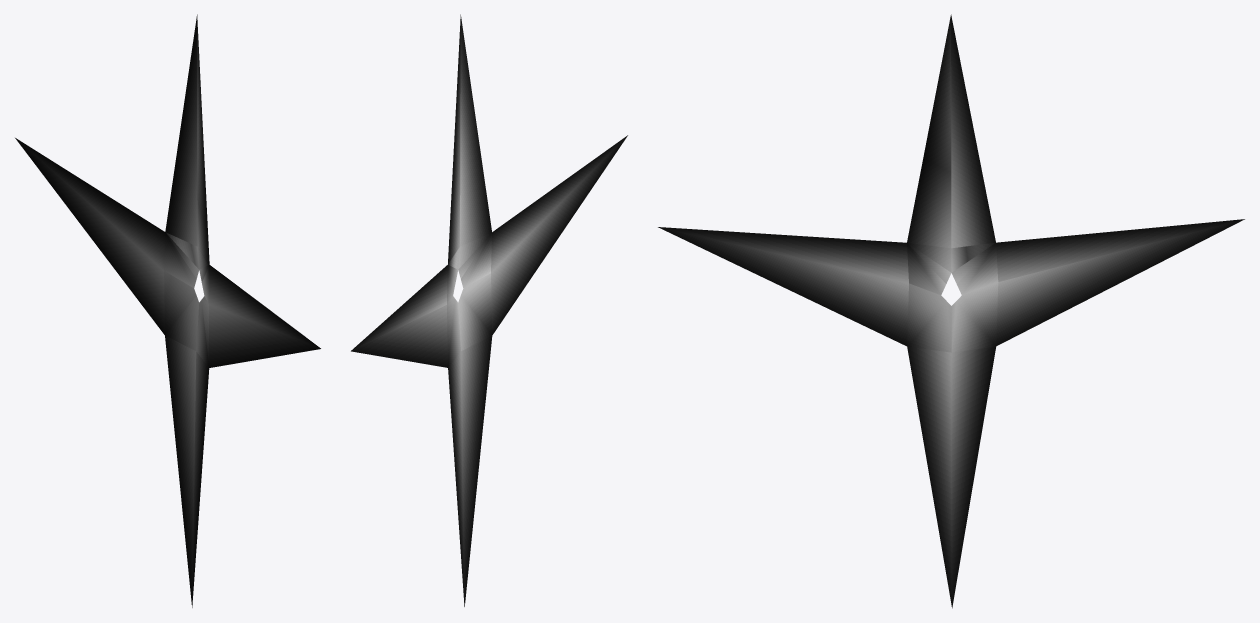
File: anheitianshizhidun005.fbx
3 views of the same model, side by side, from view 1: azimuth 30°, elevation 25°; view 2: azimuth 150°, elevation 25°; view 3: azimuth 270°, elevation 25° (orthographic).
Visible parts, largest first — view 1: anheitianshizhidun005; view 2: anheitianshizhidun005; view 3: anheitianshizhidun005.
Boxes of the visible parts, x1,y1,x2,y2 form: anheitianshizhidun005: [15, 14, 320, 607]; anheitianshizhidun005: [351, 14, 627, 606]; anheitianshizhidun005: [658, 14, 1244, 608].
Bounding box in the file's own units: 24.78 × 366 × 327.
